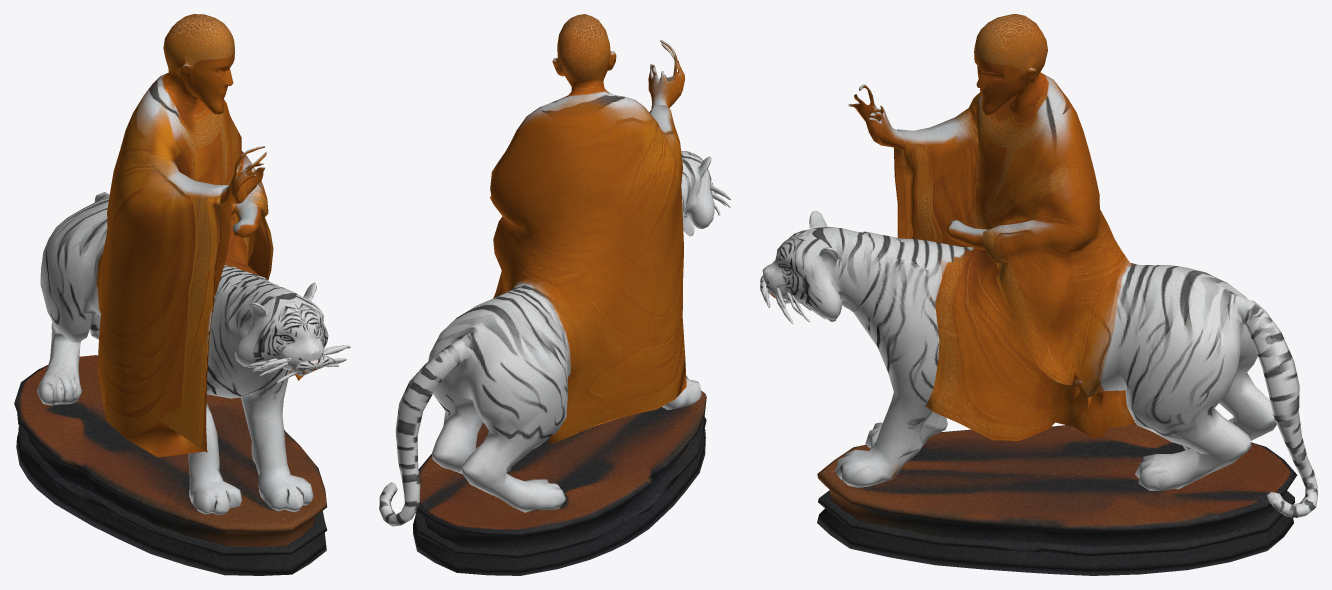
File: phuc-ho-la-han.glb
The picture shows the model from 3 angles, left to right: view 1: azimuth 30°, elevation 25°; view 2: azimuth 150°, elevation 25°; view 3: azimuth 270°, elevation 25°; orthographic projection. The views are drawn at different scales.
Size of the model in its own units: 0.4524 by 1 by 1.
1 material, 1 textured.
